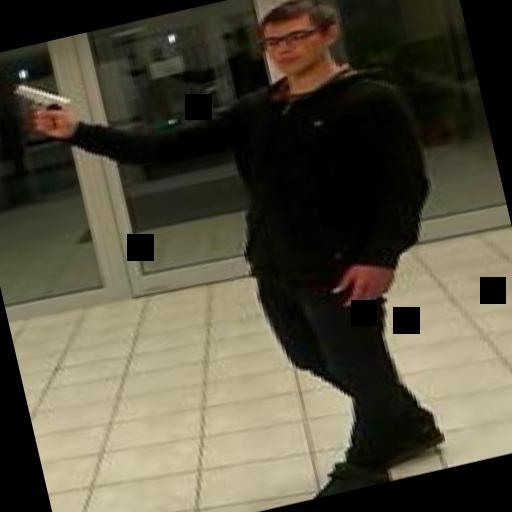Handgun: (5, 72, 79, 140)
